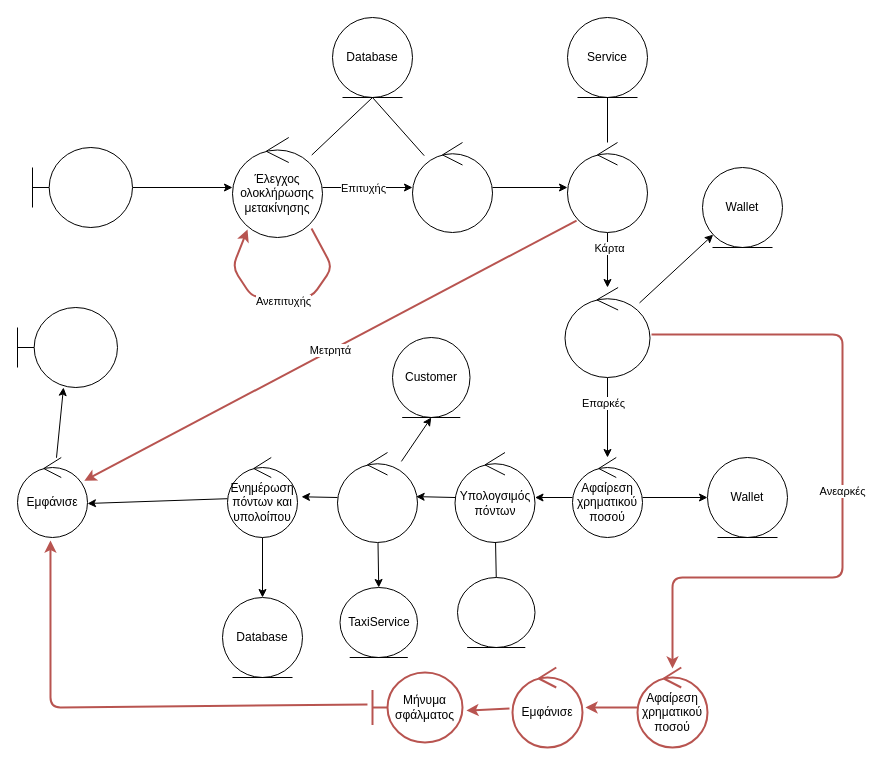
This 883x766 diagram has some shape labels left out. Each missing label, with the centre of its shape:
"Points" goes at pixel 495 612.
"Έλεγχος τρόπου πληρωμής" goes at pixel 607 187.
"Έχει ο πελάτης επαρκές υπόλοιπο;" goes at pixel 607 332.
"Ανάκτηση κόστους μετακίνησης" goes at pixel 452 187.
"Αρχική οθόνη" goes at pixel 67 347.
"Οθόνη μετακίνησης ταξί" goes at pixel 82 187.
"Προσθήκη πόντων" goes at pixel 377 497.
